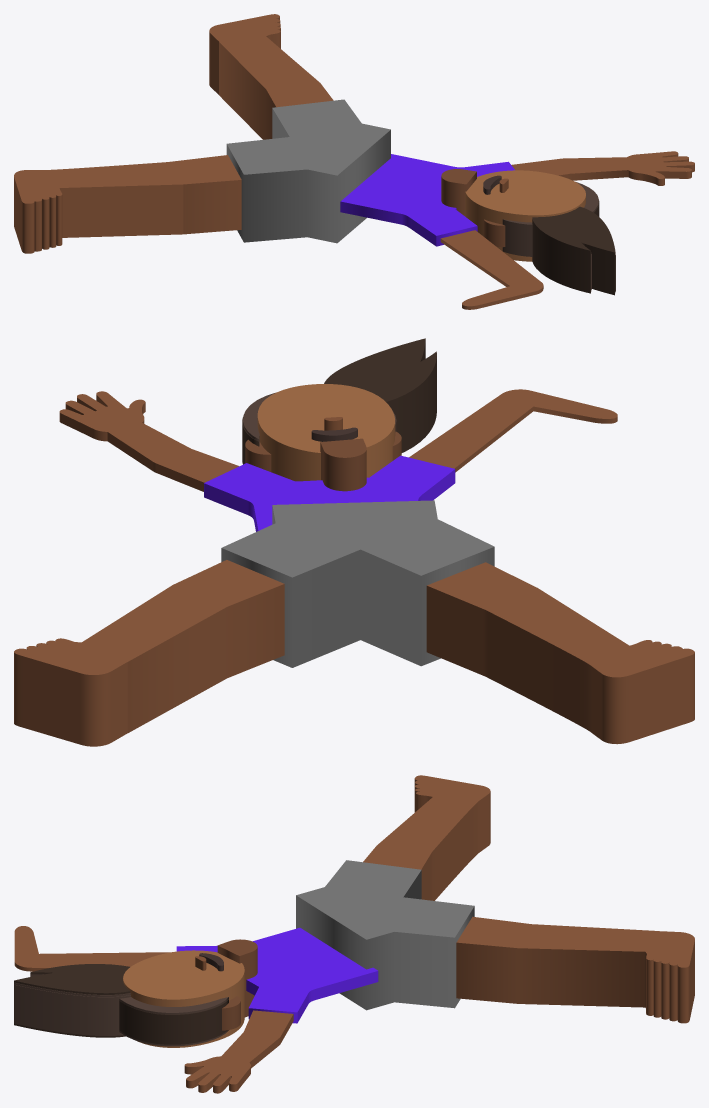
The model's file is emoji_u1f938_1f3fe_200d_2640.glb.
3 views of the same model, one above another, from view 1: azimuth 30°, elevation 25°; view 2: azimuth 150°, elevation 25°; view 3: azimuth 270°, elevation 25° (orthographic). The views are drawn at different scales.
Parts seen in each view (by area): view 1: emoji_u1f938_1f3fe_200d_2640; view 2: emoji_u1f938_1f3fe_200d_2640; view 3: emoji_u1f938_1f3fe_200d_2640.
Boxes of the visible parts, x1,y1,x2,y2 form: emoji_u1f938_1f3fe_200d_2640: (14, 14, 694, 309); emoji_u1f938_1f3fe_200d_2640: (14, 338, 694, 746); emoji_u1f938_1f3fe_200d_2640: (14, 775, 694, 1093).
Size of the model in its own units: 0.0333 by 0.0038 by 0.0332.
